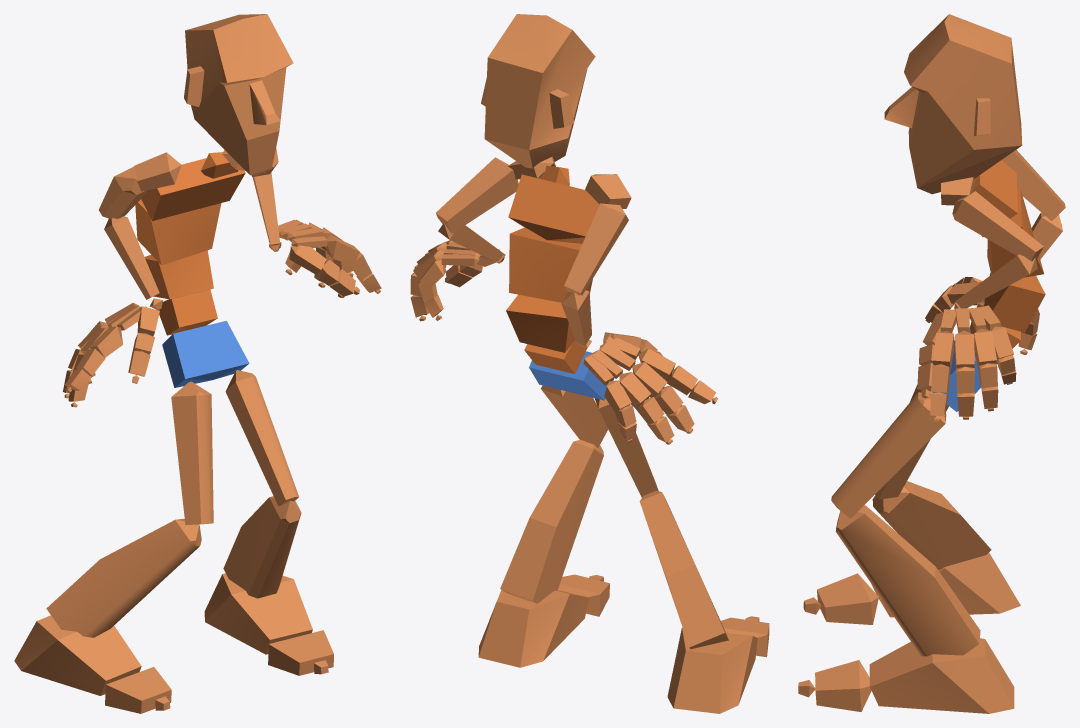
File: personaje312.obj
3 views of the same model, side by side, from view 1: azimuth 30°, elevation 25°; view 2: azimuth 150°, elevation 25°; view 3: azimuth 270°, elevation 25° (orthographic). The views are drawn at different scales.
Visible parts, largest first — view 1: BOPED_Head, BOPED_R_leg, BOPED_R_foot, BOPED_R_foot01, BOPED_L_leg, BOPED_R_legup, BOPED_L_legup, Bone01, Bone04, Bone05, Bone03, BOPED_R_foot_toe01 (+10 smaller); view 2: BOPED_Head, BOPED_L_leg, BOPED_R_foot01, BOPED_R_foot, BOPED_R_leg, Bone05, Bone04, BOPED_L_arm_upper, Bone03, BOPED_R_arm_upper, BOPED_L_legup, BOPED_R_legup (+11 smaller); view 3: BOPED_Head, BOPED_L_leg, BOPED_R_foot01, BOPED_R_leg, BOPED_L_legup, BOPED_R_foot, BOPED_L_arm_upper, BOPED_R_foot_toe01, BOPED_R_foot_toe04, Bone03, BOPED_R_arm_upper, Bone05 (+13 smaller).
Boxes of the visible parts, x1,y1,x2,y2 form: BOPED_Head: (184,14,293,176); BOPED_R_leg: (46,518,201,637); BOPED_R_foot: (14,615,141,695); BOPED_R_foot01: (204,573,312,654); BOPED_L_leg: (223,496,301,598); BOPED_R_legup: (171,381,213,525); BOPED_L_legup: (225,370,298,506); Bone01: (162,320,249,387); Bone04: (135,199,221,265); Bone05: (141,158,245,220); Bone03: (144,250,213,299); BOPED_R_foot_toe01: (105,667,171,713); BOPED_Head: (481,14,595,168); BOPED_L_leg: (500,439,603,603); BOPED_R_foot01: (478,590,588,667); BOPED_R_foot: (667,627,757,713); BOPED_R_leg: (639,490,728,649); Bone05: (508,174,599,243); Bone04: (509,227,592,302); BOPED_L_arm_upper: (436,157,518,233); Bone03: (506,294,575,352); BOPED_R_arm_upper: (564,203,628,295); BOPED_L_legup: (541,385,608,447); BOPED_R_legup: (594,398,658,497); BOPED_Head: (884,14,1022,194); BOPED_L_leg: (835,505,980,656); BOPED_R_foot01: (869,638,1014,713); BOPED_R_leg: (872,481,991,569); BOPED_L_legup: (831,392,946,517); BOPED_R_foot: (871,552,1020,617); BOPED_L_arm_upper: (952,191,1043,261); BOPED_R_foot_toe01: (817,573,878,624); BOPED_R_foot_toe04: (815,660,871,711); Bone03: (984,273,1045,332); BOPED_R_arm_upper: (1001,149,1065,221); Bone05: (973,160,1017,237).
Size of the model in its own units: 97.03 by 168 by 61.1.
